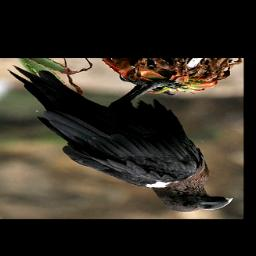Crow: (6, 65, 230, 213)
